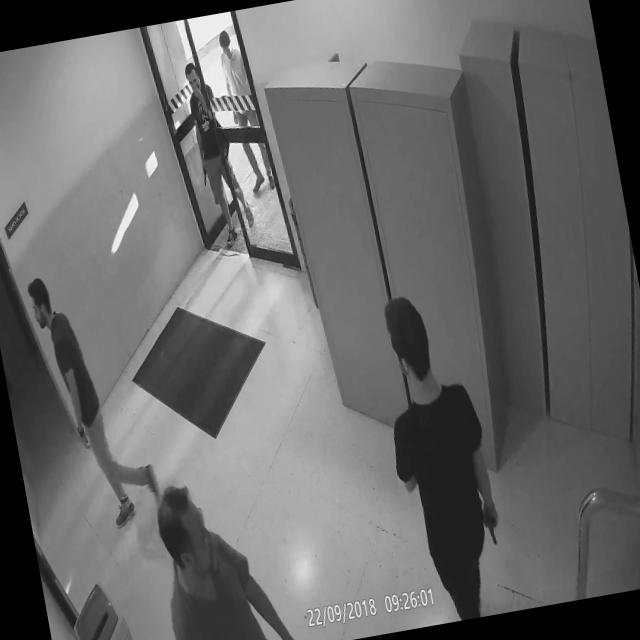gun: (479, 503, 502, 552), (200, 164, 211, 190)
person: (22, 264, 146, 536), (144, 463, 295, 640), (216, 23, 280, 198)
person with a gun: (361, 282, 516, 628), (179, 54, 260, 252)
